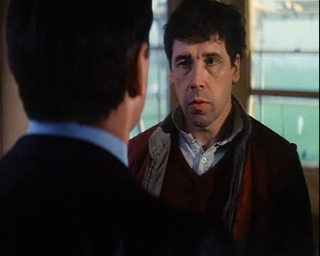face: (172, 41, 230, 127)
mcu: (1, 1, 320, 256)
ots: (1, 1, 251, 256)
person: (128, 1, 318, 256)
